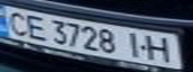2: (78, 24, 100, 53)
3: (45, 17, 69, 46)
7: (63, 20, 84, 48)
8: (97, 26, 118, 55)
C: (0, 8, 30, 36)
E: (21, 12, 51, 41)
H: (142, 33, 178, 64)
I: (121, 29, 151, 60)
